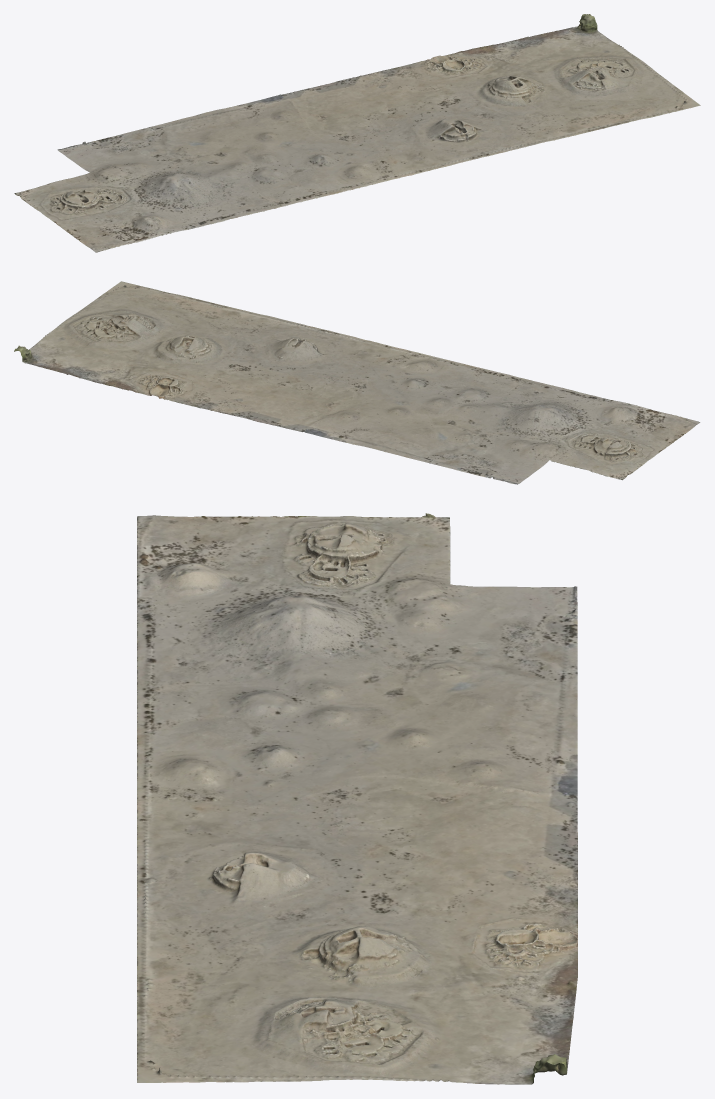
3 renders of one model, top to bottom at view 1: azimuth 30°, elevation 25°; view 2: azimuth 150°, elevation 25°; view 3: azimuth 270°, elevation 25°, orthographic. The views are drawn at different scales.
Visible parts, largest first — view 1: BHR_002_M1_4_JanabiyahDetail; view 2: BHR_002_M1_4_JanabiyahDetail; view 3: BHR_002_M1_4_JanabiyahDetail.
Part boxes in pixels (left/top/right/bottom): BHR_002_M1_4_JanabiyahDetail: left=14, top=14, right=700, bottom=252; BHR_002_M1_4_JanabiyahDetail: left=14, top=281, right=700, bottom=484; BHR_002_M1_4_JanabiyahDetail: left=137, top=513, right=577, bottom=1084.
Bounding box in the file's own units: 252 × 6.87 × 83.12.
Materials: 1 (1 with a texture image).
